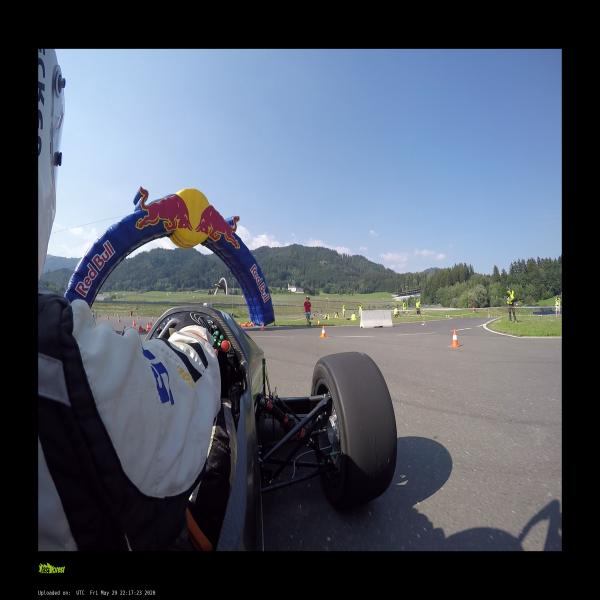orange_cone: (449, 330, 460, 348), (320, 326, 326, 337), (138, 325, 146, 332), (146, 322, 150, 330), (247, 322, 253, 327), (260, 323, 264, 330), (242, 322, 247, 327), (132, 320, 136, 326), (317, 319, 320, 326), (117, 317, 121, 322), (150, 318, 153, 323), (106, 315, 109, 319), (151, 316, 153, 321), (238, 322, 240, 326), (130, 315, 132, 318), (137, 315, 138, 318), (121, 314, 122, 316)
